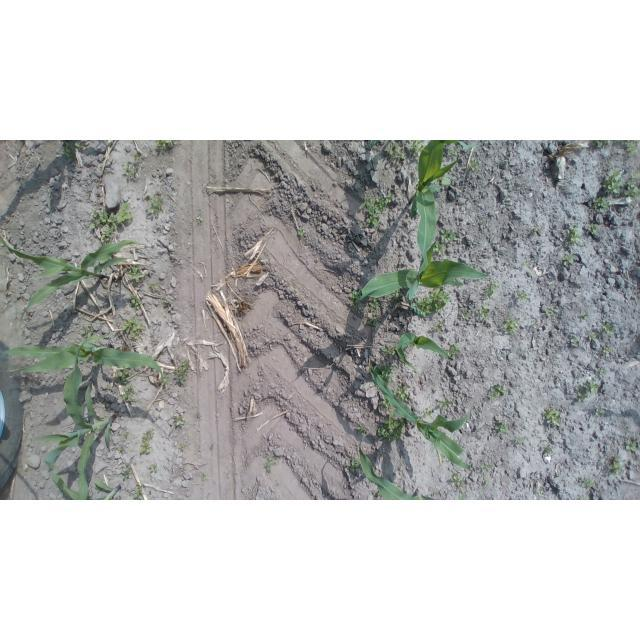Maize: (352, 189, 492, 306), (33, 336, 117, 501), (1, 233, 152, 321), (366, 362, 484, 474), (3, 336, 170, 384), (356, 432, 471, 501), (402, 141, 460, 217), (48, 464, 132, 500), (391, 332, 459, 373)
Weeds: (89, 202, 133, 247), (361, 191, 396, 231), (410, 286, 452, 316), (370, 142, 427, 162), (375, 416, 409, 441), (595, 142, 638, 160), (121, 154, 147, 183), (431, 229, 457, 256), (601, 167, 623, 198), (122, 318, 147, 343), (63, 141, 86, 168), (434, 168, 455, 197), (146, 194, 167, 222), (175, 360, 194, 387), (139, 428, 156, 457), (501, 315, 522, 336), (543, 407, 562, 430), (124, 265, 146, 284), (375, 362, 394, 383), (566, 225, 583, 248), (486, 385, 507, 402), (581, 377, 600, 395), (600, 319, 618, 338), (593, 195, 611, 214), (607, 456, 624, 476), (447, 473, 465, 491), (349, 288, 367, 306), (117, 368, 135, 385), (624, 436, 640, 455), (562, 252, 579, 269), (395, 385, 410, 404), (625, 181, 640, 200), (262, 454, 281, 469), (155, 140, 178, 152), (367, 298, 383, 315), (130, 484, 147, 500), (437, 397, 455, 412), (579, 477, 597, 492), (483, 281, 498, 299), (590, 403, 605, 420), (477, 306, 494, 321), (120, 386, 135, 403), (379, 344, 397, 358), (466, 157, 480, 175), (365, 314, 384, 327), (344, 458, 360, 473), (419, 407, 435, 422), (446, 344, 460, 361), (585, 222, 600, 237), (430, 322, 447, 335), (514, 288, 531, 301), (79, 324, 97, 336), (353, 423, 368, 437), (597, 365, 612, 379), (585, 330, 599, 345), (445, 146, 460, 160), (494, 421, 510, 434), (131, 296, 144, 312), (174, 414, 187, 430), (575, 391, 590, 404), (568, 335, 583, 348), (120, 467, 133, 482), (147, 462, 160, 476), (391, 288, 406, 300), (602, 347, 618, 358), (380, 398, 393, 411), (577, 309, 590, 322), (194, 215, 207, 228), (295, 225, 307, 239), (149, 282, 159, 294), (514, 437, 524, 448), (199, 471, 210, 481), (543, 445, 554, 455), (530, 227, 542, 236), (480, 463, 492, 472), (545, 310, 556, 319), (459, 310, 470, 319), (164, 301, 173, 312), (522, 259, 534, 267), (631, 172, 640, 181), (122, 431, 129, 442), (178, 443, 185, 452), (118, 446, 125, 455), (482, 478, 491, 485), (575, 495, 587, 500), (291, 283, 298, 290)
